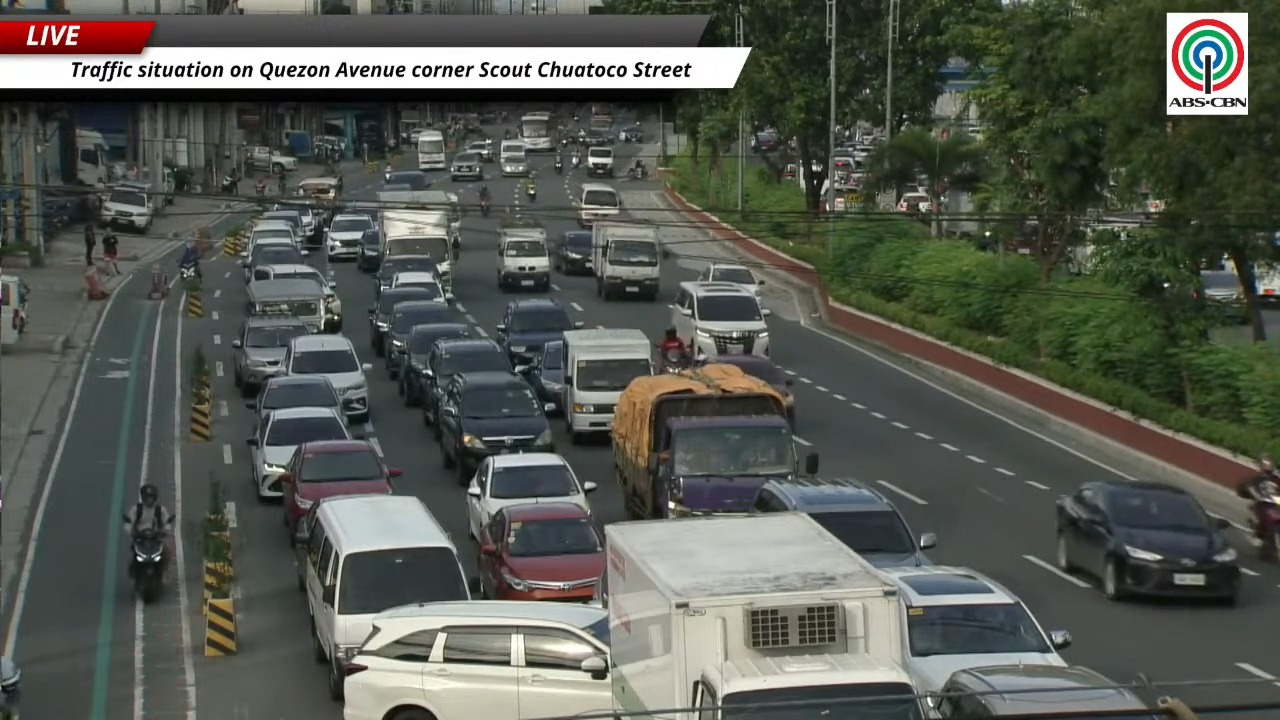bus: (519, 112, 557, 151), (418, 130, 447, 170), (589, 104, 613, 131)
car: (344, 601, 612, 719), (879, 566, 1071, 693), (1056, 481, 1240, 602), (751, 477, 936, 566), (436, 369, 554, 486), (477, 501, 603, 601), (926, 665, 1152, 719), (279, 439, 401, 538), (466, 452, 596, 538), (247, 407, 350, 498), (422, 338, 512, 439), (282, 335, 371, 423), (669, 281, 770, 358), (397, 322, 473, 406), (251, 263, 342, 331), (232, 317, 309, 396), (716, 354, 795, 430), (496, 297, 583, 364), (383, 300, 455, 379), (369, 287, 432, 356), (246, 375, 340, 420), (524, 340, 564, 412), (1199, 270, 1249, 323), (374, 255, 438, 295), (242, 243, 306, 283), (100, 187, 154, 233), (697, 262, 764, 298), (272, 201, 326, 244), (325, 214, 374, 260), (259, 206, 313, 242), (550, 230, 593, 274), (391, 271, 445, 302), (247, 218, 300, 249), (356, 228, 381, 272), (335, 201, 379, 224), (450, 151, 483, 180), (385, 170, 430, 190), (897, 193, 932, 213), (751, 130, 781, 152), (466, 139, 492, 162), (581, 129, 611, 147), (619, 125, 643, 142), (382, 184, 412, 191)
motorcycle: (131, 529, 164, 602), (1250, 495, 1280, 561), (0, 656, 21, 719), (661, 348, 692, 373), (179, 262, 202, 284), (220, 174, 237, 194), (627, 166, 646, 179), (526, 182, 536, 201), (255, 178, 266, 195), (480, 197, 489, 217), (553, 157, 562, 173), (571, 153, 580, 168), (384, 164, 391, 182), (560, 137, 568, 146)
truck: (604, 513, 922, 719), (611, 363, 818, 519), (560, 328, 653, 443), (378, 210, 456, 300), (592, 222, 661, 301), (377, 190, 459, 238), (75, 127, 111, 187), (245, 145, 297, 174)
